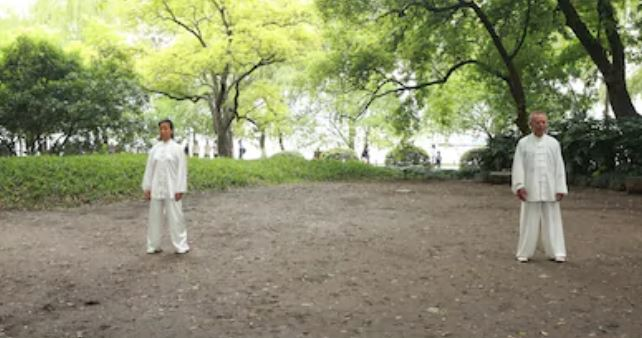Good: (136, 106, 566, 268)
